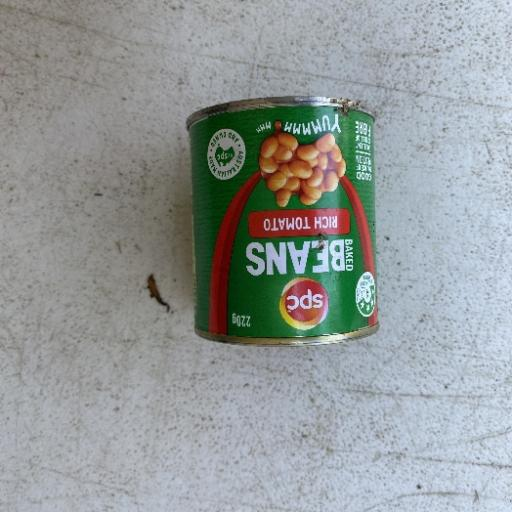Metal: (184, 94, 381, 348)
